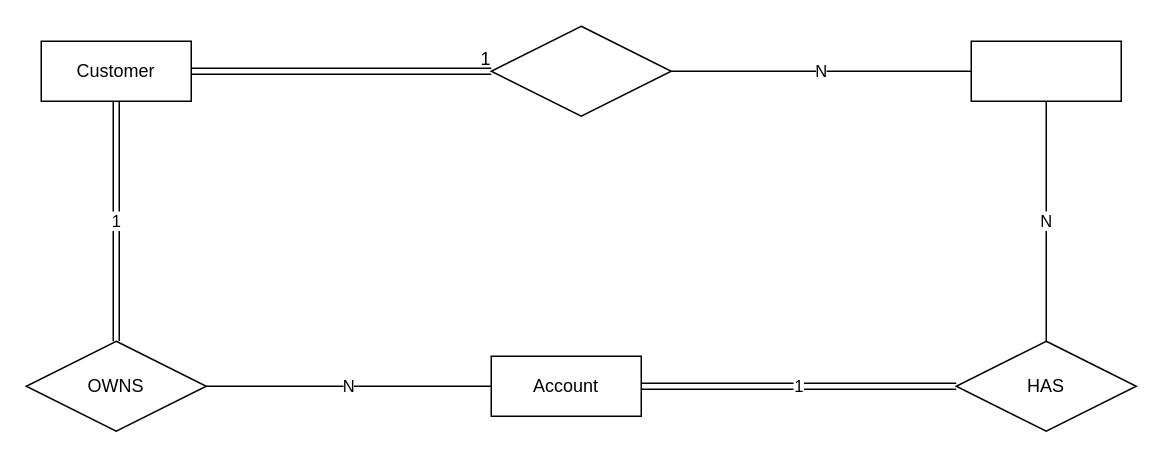
This 1163x458 diagram has some shape labels left out. The shapes that lost their labels are listed below. From the top down, each one's box as (x1, y1, x2, y2) in pixels, then its label:
(490, 25, 671, 116): MAKES
(970, 40, 1121, 101): Transaction
